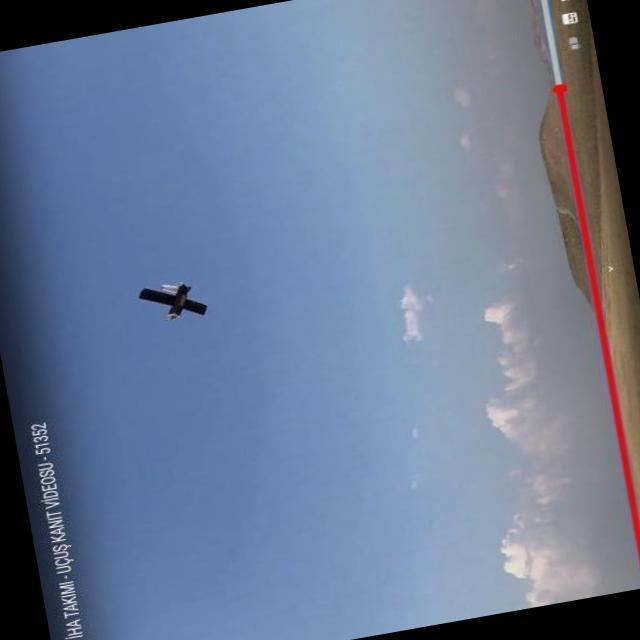iha: (157, 278, 175, 301)
